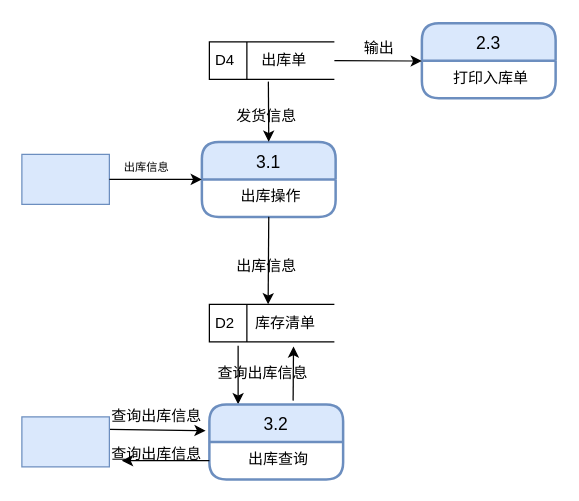
This 579x501 diagram has some shape labels left out. The box of each missing label's shape, as (x1, y1, x2, y2) in pixels:
用户: (21, 416, 109, 467)
管理员: (21, 153, 109, 204)
